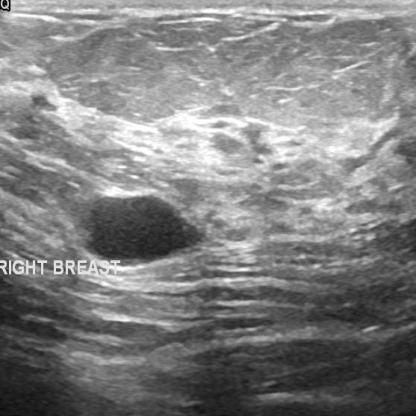benign: (74, 179, 206, 270)
